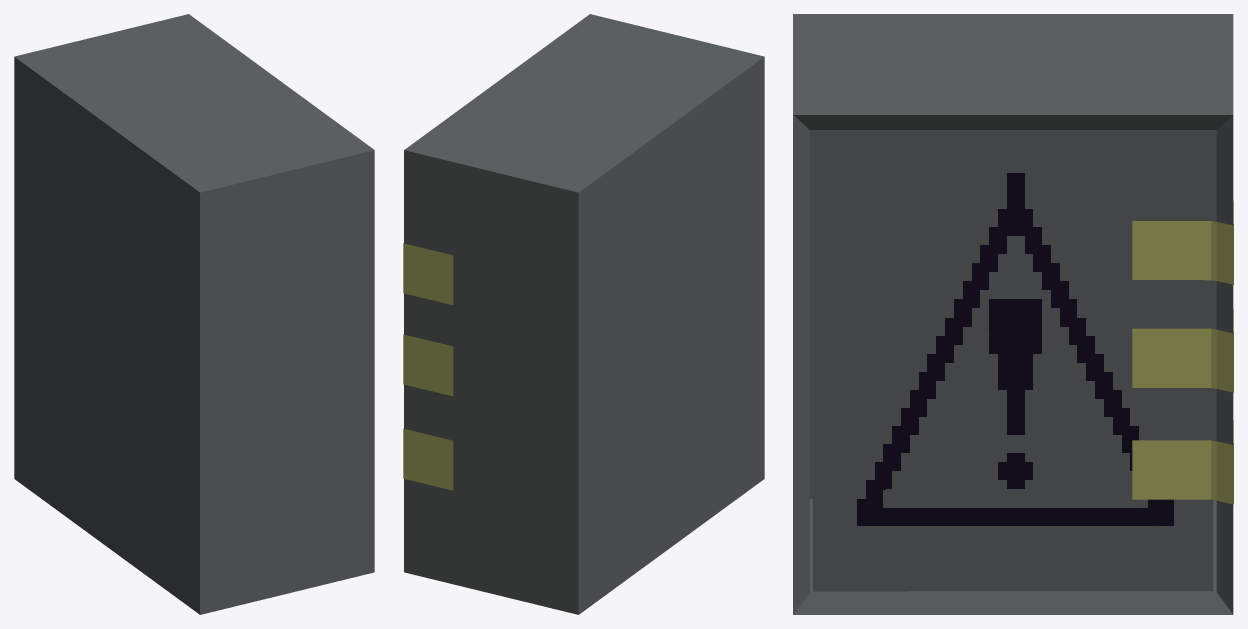
The model's file is CaixaFEchadafusível.fbx.
3 views of the same model, side by side, from view 1: azimuth 30°, elevation 25°; view 2: azimuth 150°, elevation 25°; view 3: azimuth 270°, elevation 25° (orthographic). The views are drawn at different scales.
Parts seen in each view (by area): view 1: caixa fechada; view 2: caixa fechada, Fita lacrada; view 3: Porta.001, caixa fechada, Fita lacrada.
Boxes of the visible parts, x1,y1,x2,y2 form: caixa fechada: (14,14,374,614); caixa fechada: (404,14,764,614); Fita lacrada: (403,243,453,490); Porta.001: (812,130,1213,591); caixa fechada: (793,14,1233,614); Fita lacrada: (1132,201,1233,504).
Size of the model in its own units: 270 by 622 by 497.
